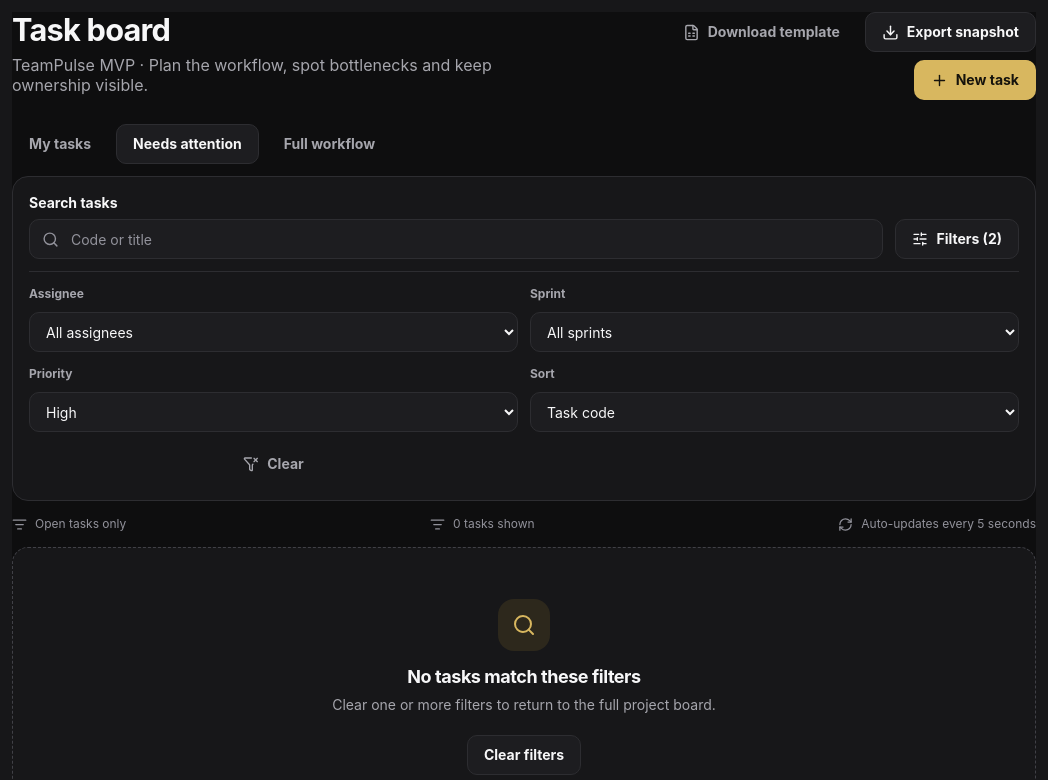
Test: task board flow › exports the current project filters and offers a leader template
This screenshot has width=1048, height=780.
Expected: the button "Download template" is shown, [666,12,857,52]
Click the button "Export snapshot" at (950, 32), box [865,12,1036,52]
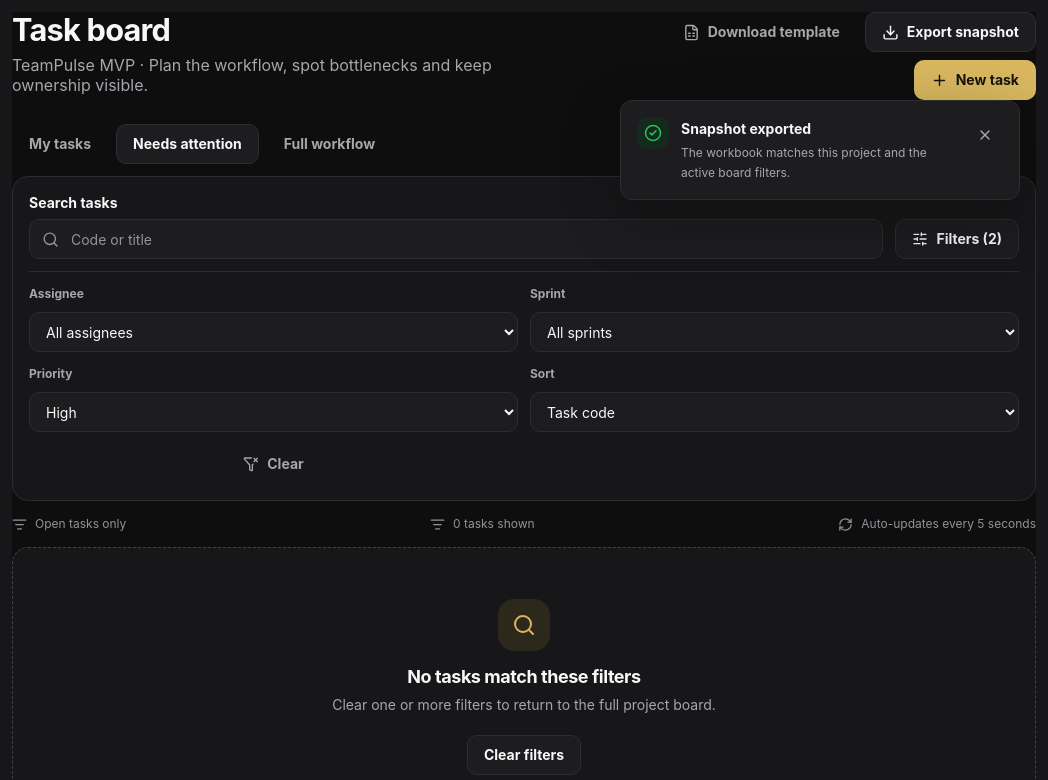
Now the text "Snapshot exported" is shown, box [681,120,811,137]
